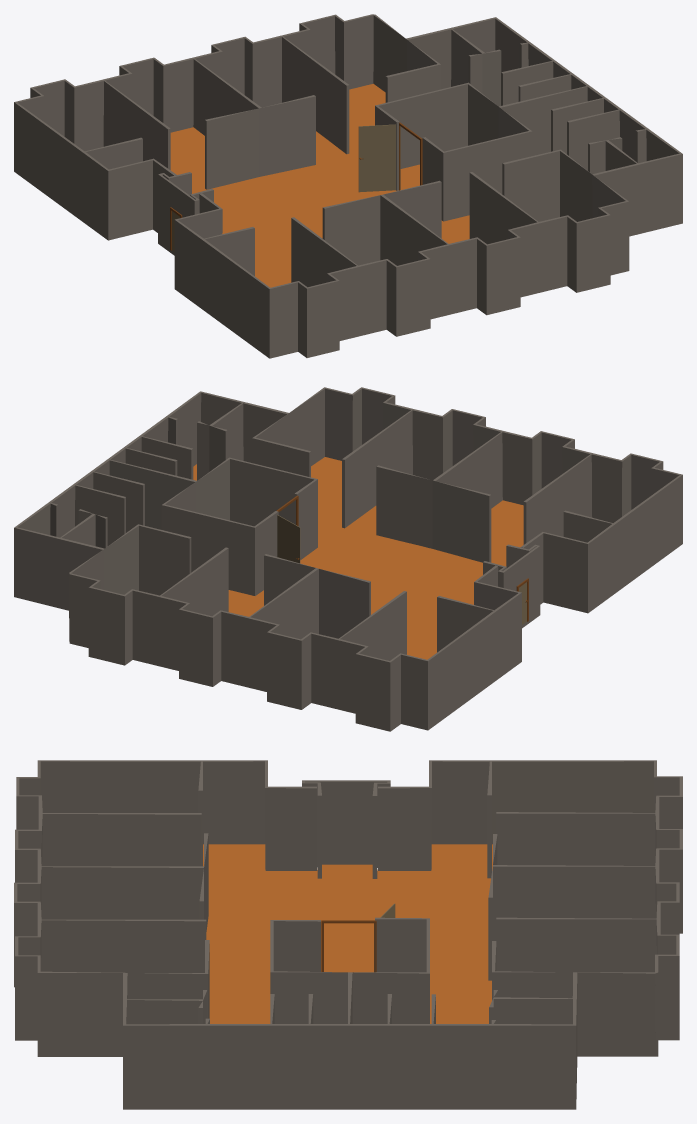
File: hostelC.glb
The picture shows the model from 3 angles, top to bottom: view 1: azimuth 30°, elevation 25°; view 2: azimuth 150°, elevation 25°; view 3: azimuth 270°, elevation 25°; orthographic projection. The views are drawn at different scales.
Parts seen in each view (by area): view 1: Plane, Door.001; view 2: Plane, Door.001; view 3: Plane.
Boxes of the visible parts, x1=… form: Plane: x1=14, y1=14, x2=682, y2=358; Door.001: x1=358, y1=124, x2=400, y2=192; Plane: x1=14, y1=387, x2=682, y2=731; Door.001: x1=277, y1=515, x2=300, y2=563; Plane: x1=14, y1=760, x2=682, y2=1109.
Size of the model in its own units: 23.14 by 3.43 by 24.66.
